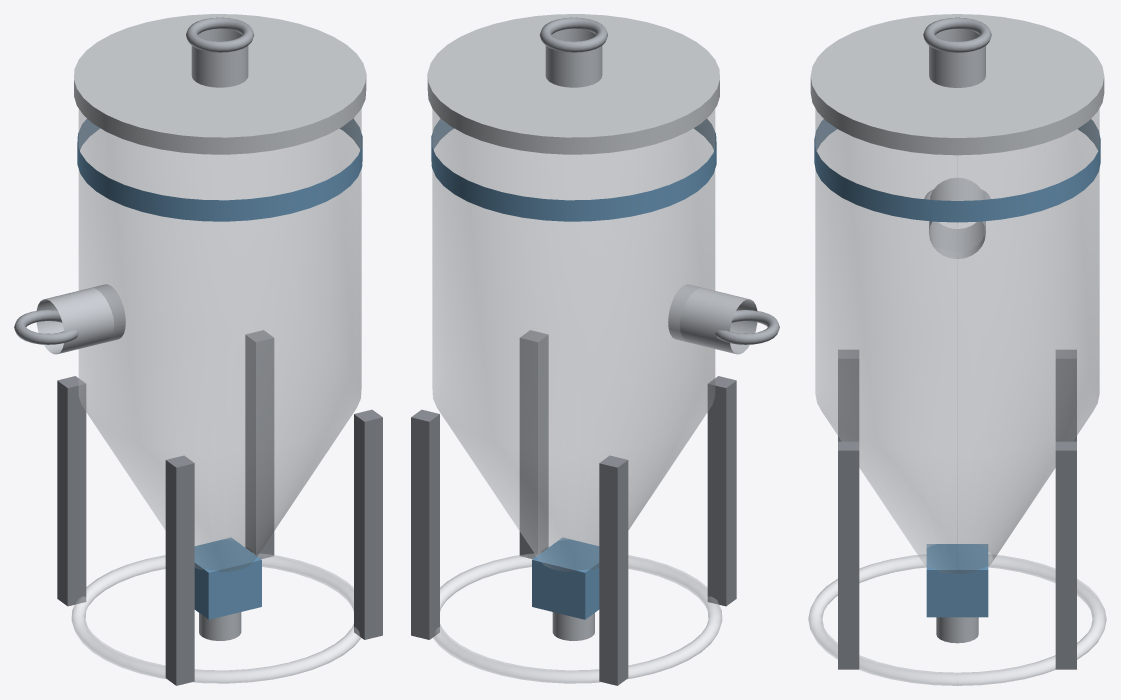
Rendered from chamber.glb.
3 views of the same model, side by side, from view 1: azimuth 30°, elevation 25°; view 2: azimuth 150°, elevation 25°; view 3: azimuth 270°, elevation 25° (orthographic).
Visible parts, largest first — view 1: vessel, lid, leg (×4), band, valveBox, inlet, topNozzle, topFlange, inletFlange, discharge; view 2: vessel, lid, leg (×4), band, valveBox, inlet, topNozzle, topFlange, inletFlange, discharge; view 3: vessel, lid, leg (×4), band, valveBox, inlet, topNozzle, topFlange, discharge.
Part boxes in pixels (<box>): vessel: <box>71,109,361,683</box>; lid: <box>74,14,366,154</box>; leg (×4): <box>57,330,382,685</box>; band: <box>77,118,362,221</box>; valveBox: <box>194,537,261,619</box>; inlet: <box>36,284,125,354</box>; topNozzle: <box>191,28,248,87</box>; topFlange: <box>186,17,254,52</box>; inletFlange: <box>14,310,78,344</box>; discharge: <box>199,612,241,640</box>; vessel: <box>432,109,722,683</box>; lid: <box>427,14,719,154</box>; leg (×4): <box>411,330,736,685</box>; band: <box>431,118,716,221</box>; valveBox: <box>532,537,599,619</box>; inlet: <box>668,284,757,354</box>; topNozzle: <box>545,28,602,87</box>; topFlange: <box>539,17,607,52</box>; inletFlange: <box>715,310,779,344</box>; discharge: <box>552,612,594,640</box>; vessel: <box>808,109,1106,685</box>; lid: <box>810,14,1104,155</box>; leg (×4): <box>838,349,1076,669</box>; band: <box>814,119,1100,222</box>; valveBox: <box>926,544,988,617</box>; inlet: <box>929,177,985,258</box>; topNozzle: <box>929,29,985,87</box>; topFlange: <box>923,17,991,52</box>; discharge: <box>936,617,978,643</box>.
Size of the model in its own units: 1.62 by 2.81 by 1.26.
